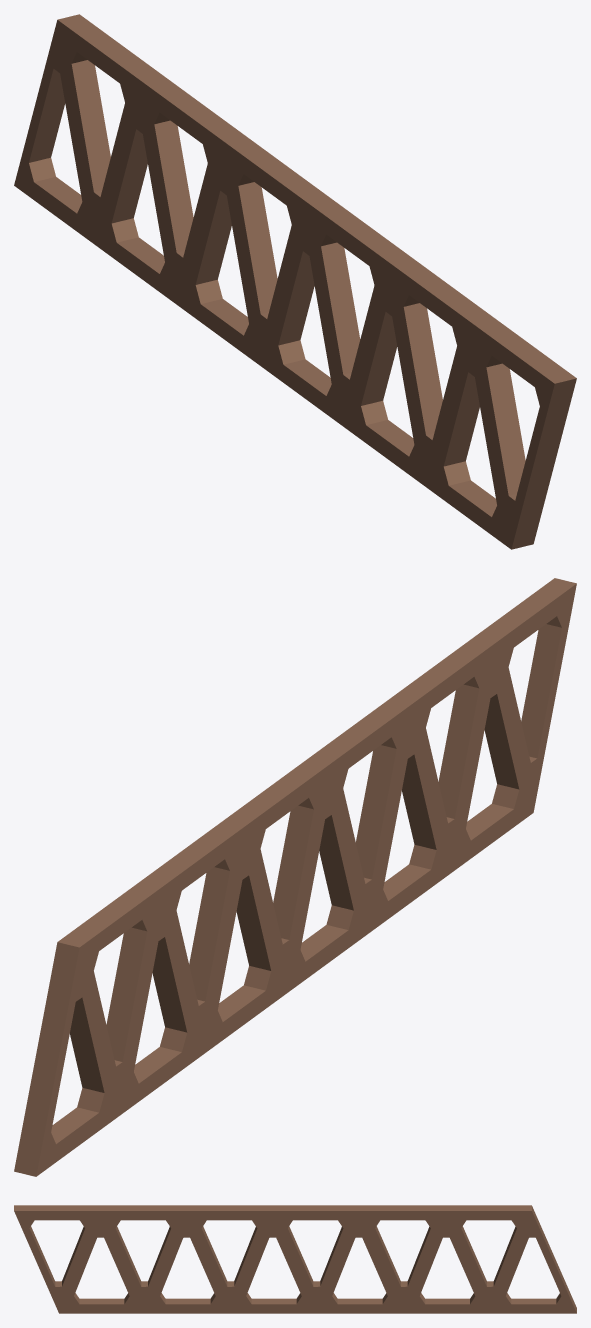
Rendered from quaternius-ultimate-space-pack-metal-support-transformed.glb.
The picture shows the model from 3 angles, top to bottom: view 1: azimuth 30°, elevation 25°; view 2: azimuth 150°, elevation 25°; view 3: azimuth 270°, elevation 25°; orthographic projection. The views are drawn at different scales.
Visible parts, largest first — view 1: MetalSupport; view 2: MetalSupport; view 3: MetalSupport.
Part boxes in pixels (bbox=[...]): MetalSupport: bbox=[14, 14, 576, 549]; MetalSupport: bbox=[14, 578, 576, 1176]; MetalSupport: bbox=[14, 1205, 576, 1313].
Bounding box in the file's own units: 0.141 × 1.2 × 5.95.
Materials: 1 (1 with a texture image).
